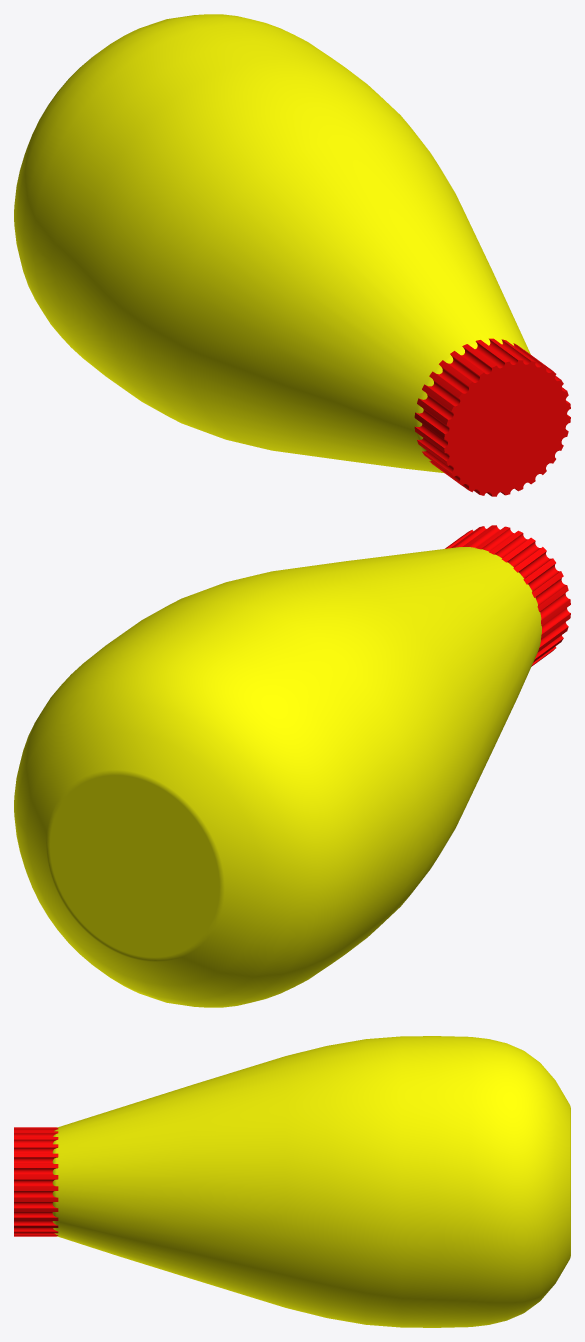
File: mayo.fbx
The picture shows the model from 3 angles, top to bottom: view 1: azimuth 30°, elevation 25°; view 2: azimuth 150°, elevation 25°; view 3: azimuth 270°, elevation 25°; orthographic projection. The views are drawn at different scales.
Visible parts, largest first — view 1: 개체_1, 개체_2; view 2: 개체_1, 개체_2; view 3: 개체_1, 개체_2.
Boxes of the visible parts, <box> form: 개체_1: <box>14,14,530,473</box>; 개체_2: <box>414,338,570,496</box>; 개체_1: <box>14,547,541,1007</box>; 개체_2: <box>445,525,570,666</box>; 개체_1: <box>52,1036,570,1327</box>; 개체_2: <box>14,1127,58,1236</box>.
Bounding box in the file's own units: 32 × 32 × 61.
